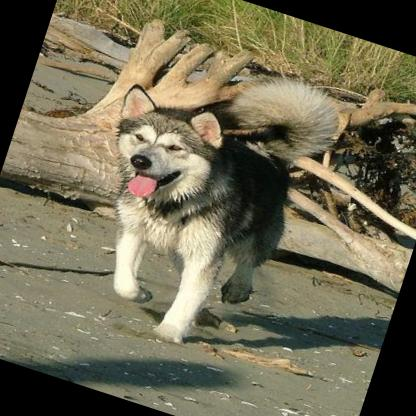malamute: (54, 29, 350, 370)
